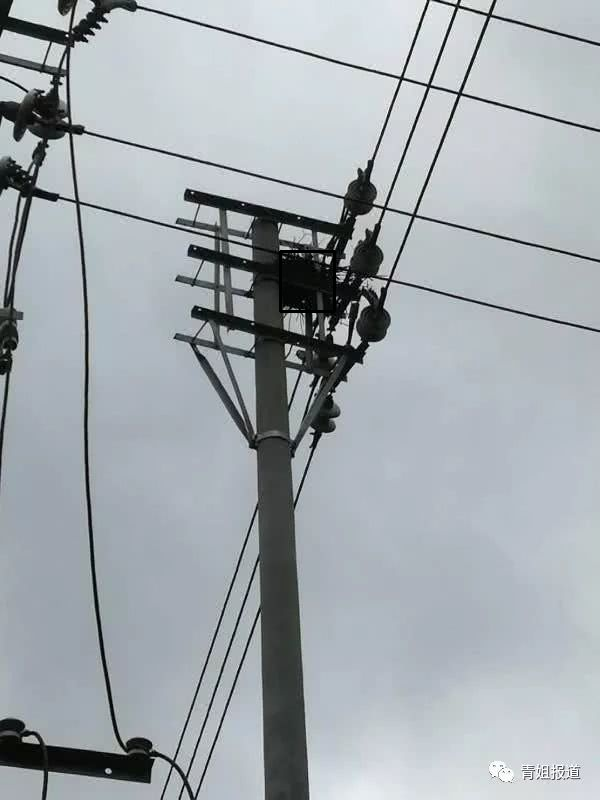bird-nest: (267, 244, 336, 305)
